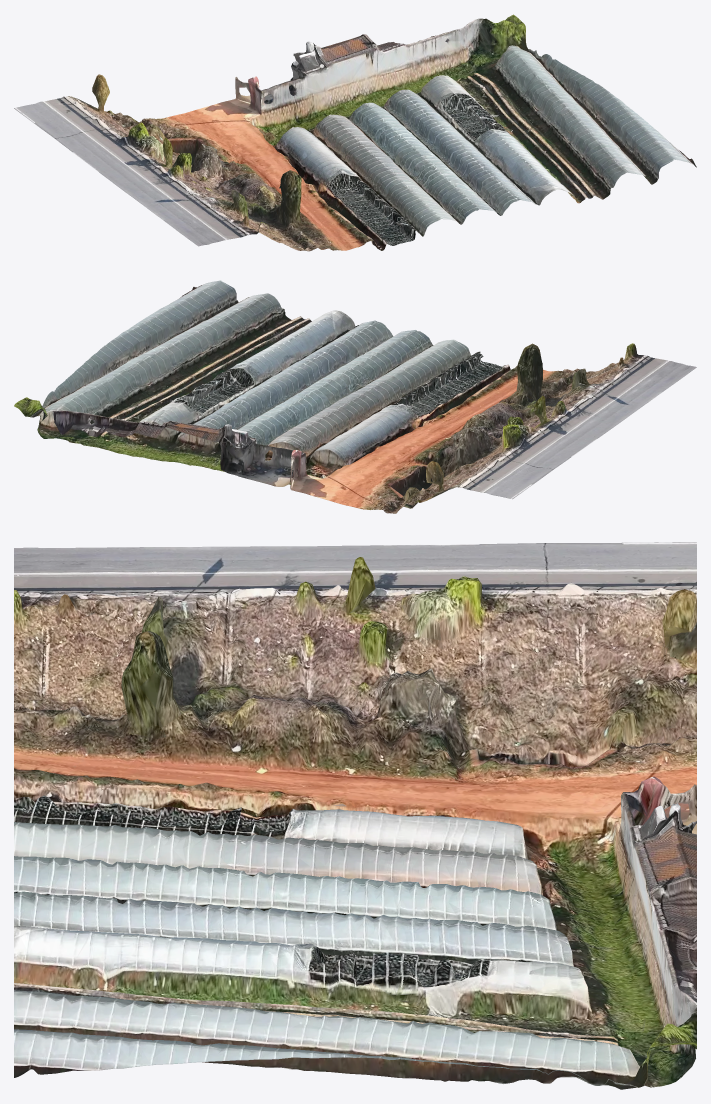
The model's file is BlockBB_L20_215.glb.
3 views of the same model, one above another, from view 1: azimuth 30°, elevation 25°; view 2: azimuth 150°, elevation 25°; view 3: azimuth 270°, elevation 25° (orthographic). The views are drawn at different scales.
Parts seen in each view (by area): view 1: rtc; view 2: rtc; view 3: rtc.
Boxes of the visible parts, x1,y1,x2,y2 form: rtc: (14, 14, 696, 251); rtc: (14, 280, 696, 513); rtc: (14, 542, 696, 1089).
Bounding box in the file's own units: 66.85 × 11.13 × 42.82.
Materials: 7 (7 with a texture image).
